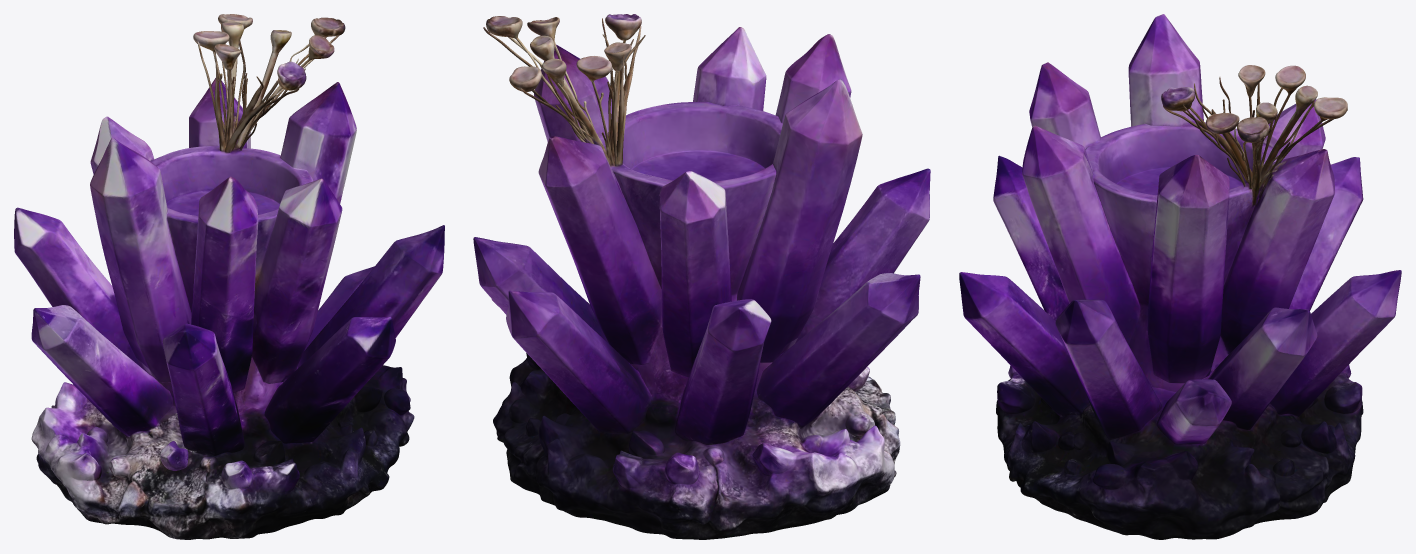
The model's file is H5-web.glb.
The picture shows the model from 3 angles, left to right: view 1: azimuth 30°, elevation 25°; view 2: azimuth 150°, elevation 25°; view 3: azimuth 270°, elevation 25°; orthographic projection. The views are drawn at different scales.
Visible parts, largest first — view 1: tripo_node_680f066c-6dfe-4f03-bcb0-7a0ae8a31a9e; view 2: tripo_node_680f066c-6dfe-4f03-bcb0-7a0ae8a31a9e; view 3: tripo_node_680f066c-6dfe-4f03-bcb0-7a0ae8a31a9e.
Part boxes in pixels (left/top/right/bottom): tripo_node_680f066c-6dfe-4f03-bcb0-7a0ae8a31a9e: left=14, top=14, right=444, bottom=539; tripo_node_680f066c-6dfe-4f03-bcb0-7a0ae8a31a9e: left=473, top=14, right=930, bottom=539; tripo_node_680f066c-6dfe-4f03-bcb0-7a0ae8a31a9e: left=959, top=14, right=1401, bottom=539.
Size of the model in its own units: 0.2971 by 0.3 by 0.29.
Materials: 1 (1 with a texture image).
